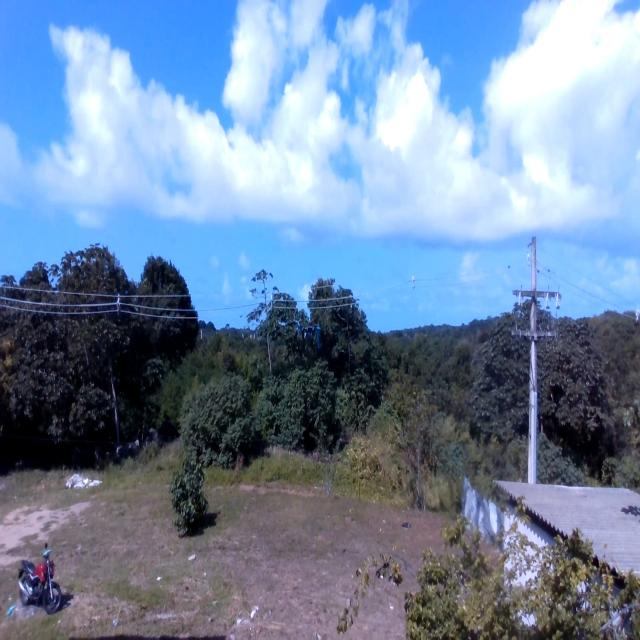-uav-: (291, 313, 323, 357)
